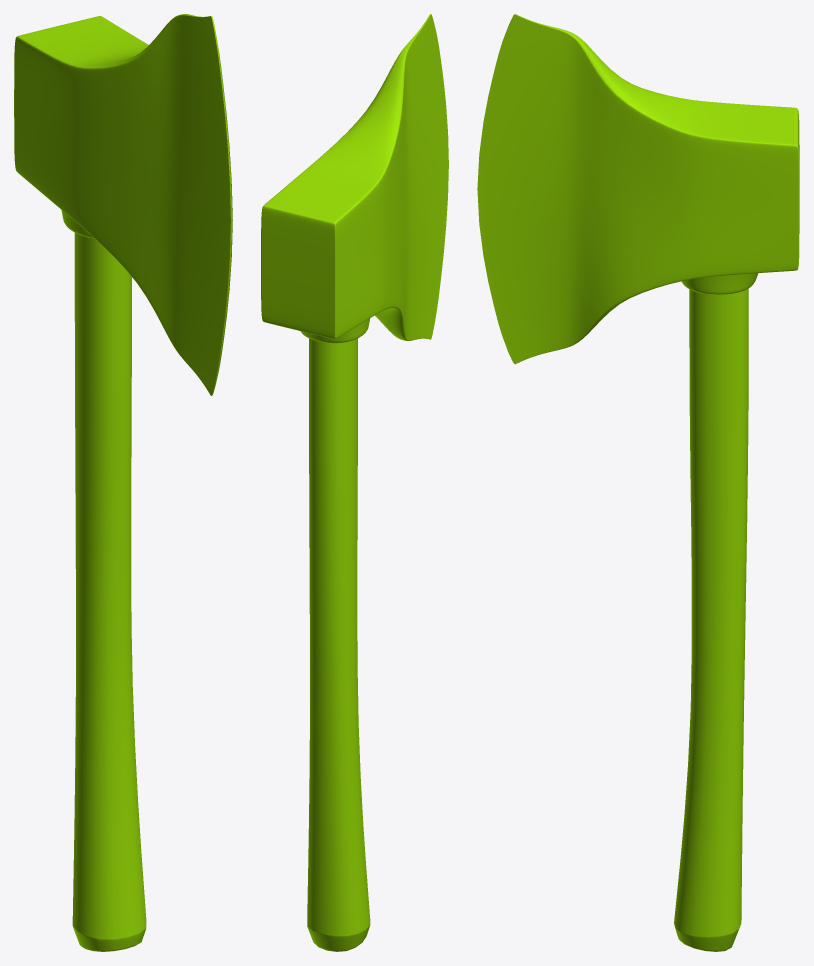
The picture shows the model from 3 angles, left to right: view 1: azimuth 30°, elevation 25°; view 2: azimuth 150°, elevation 25°; view 3: azimuth 270°, elevation 25°; orthographic projection. The views are drawn at different scales.
Parts seen in each view (by area): view 1: Iron, Cable; view 2: Iron, Cable, Holder; view 3: Iron, Cable, Holder.
Boxes of the visible parts, box(x1,y1,x2,y2) form: Iron: box(14, 14, 232, 395); Cable: box(72, 233, 146, 951); Iron: box(261, 14, 448, 340); Cable: box(307, 338, 370, 951); Holder: box(300, 318, 369, 343); Iron: box(477, 14, 799, 364); Cable: box(674, 288, 748, 951); Holder: box(681, 273, 758, 294).
Size of the model in its own units: 0.9975 by 11.02 by 3.46.
